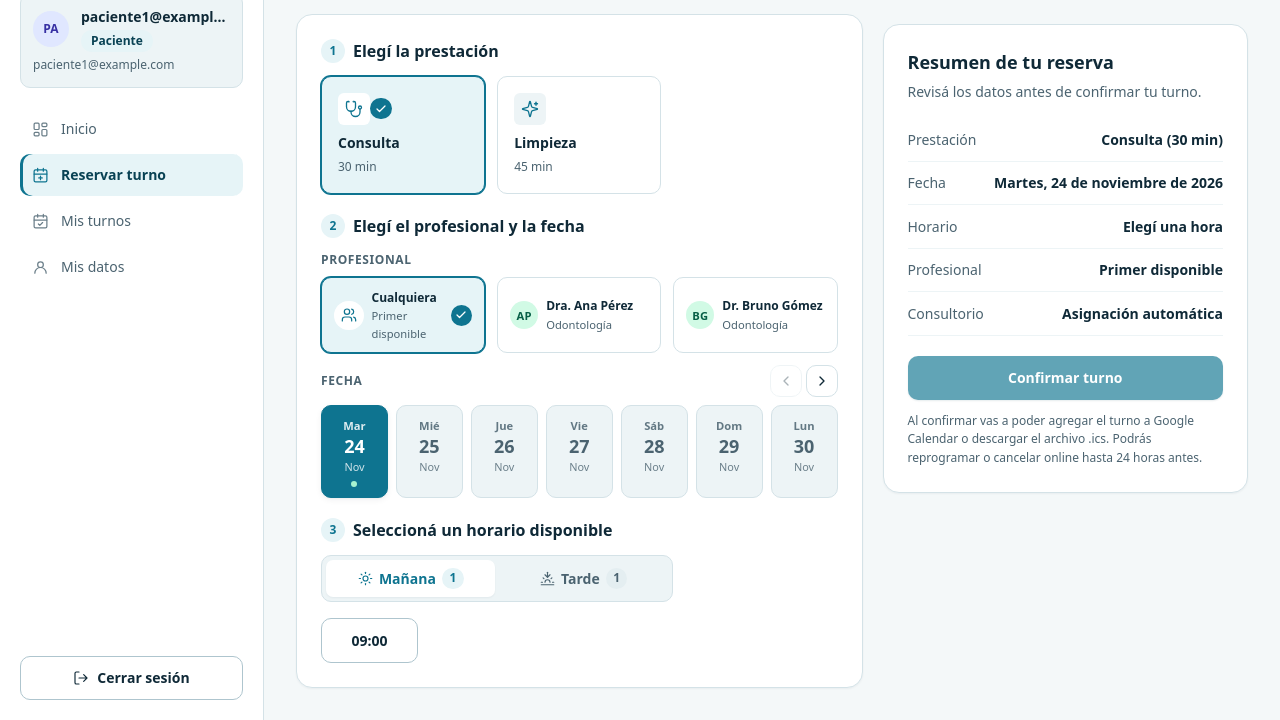
Test: web-paciente (C-14) › si el hueco ya lo tomó otro paciente (409), muestra el error y recarga los huecos para elegir otro
This screenshot has width=1280, height=720.
(page scrolled)
Click the button "09:00" at (369, 641), box [321,618,418,663]
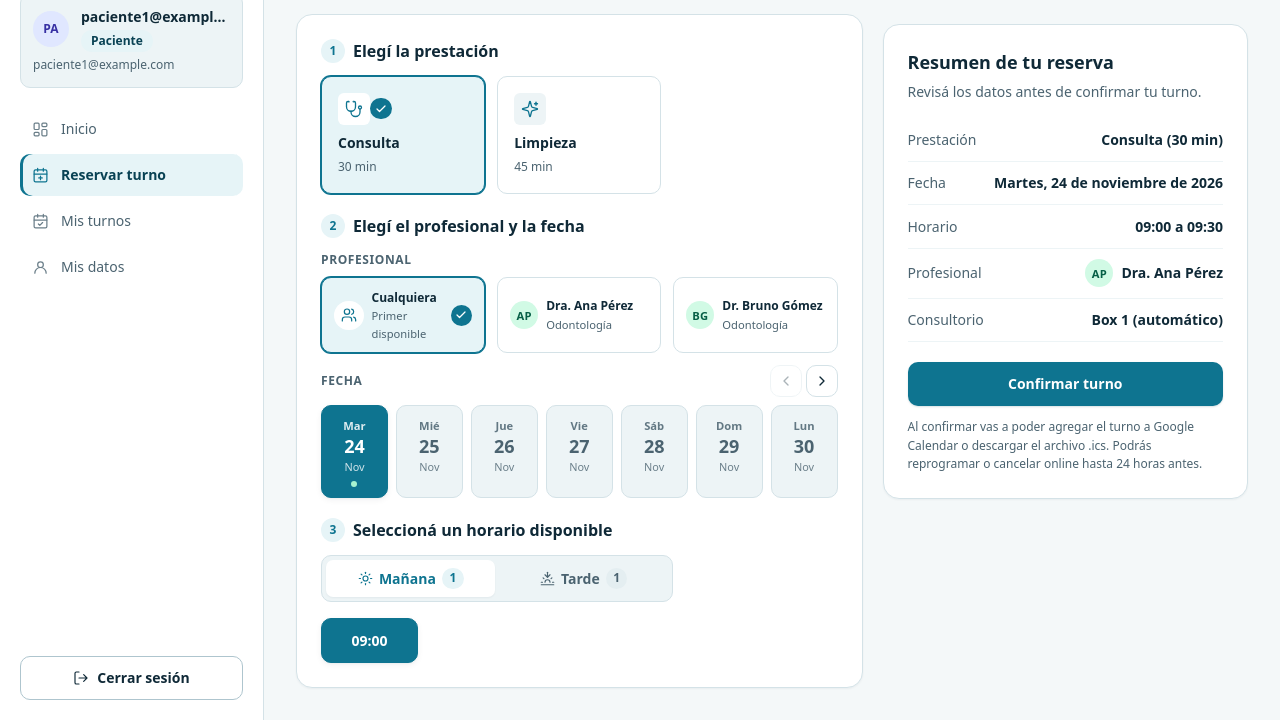
Click the button "Confirmar turno" at (1065, 384), box [908,362,1223,406]
(page scrolled)
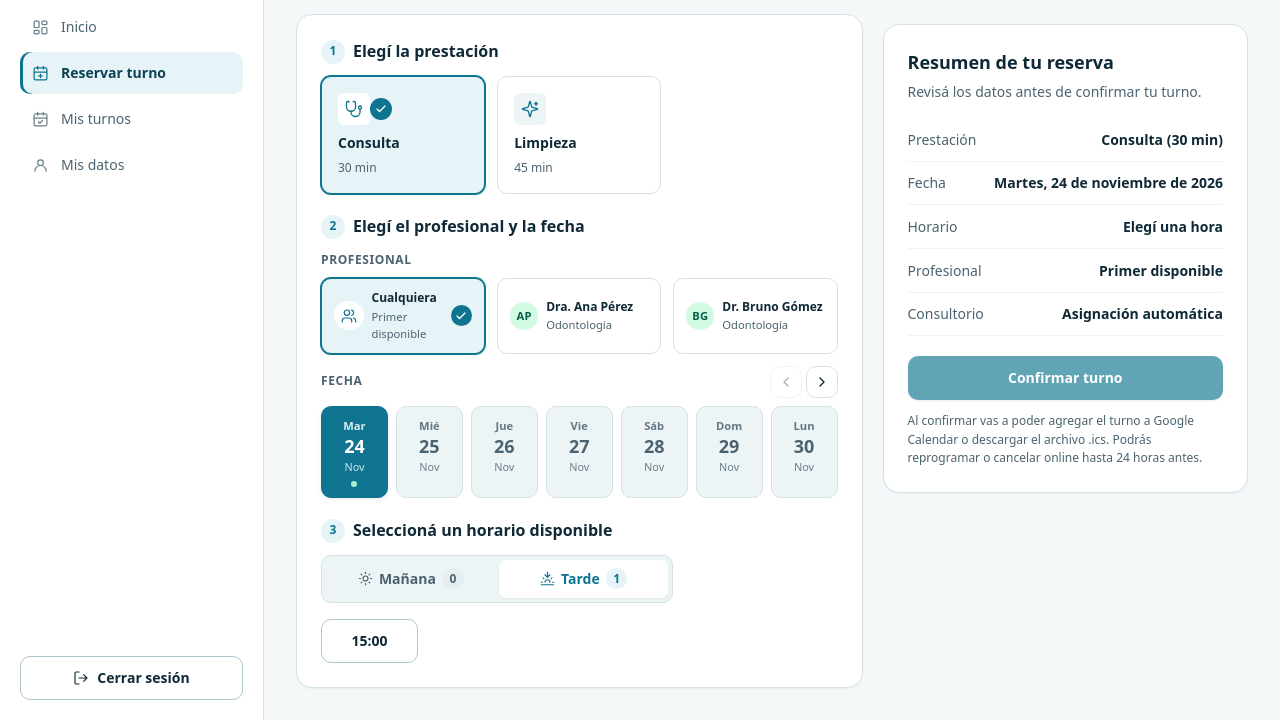
Expected: the button "09:00" is gone
Expected: the button "15:00" is shown, [321,619,418,663]
